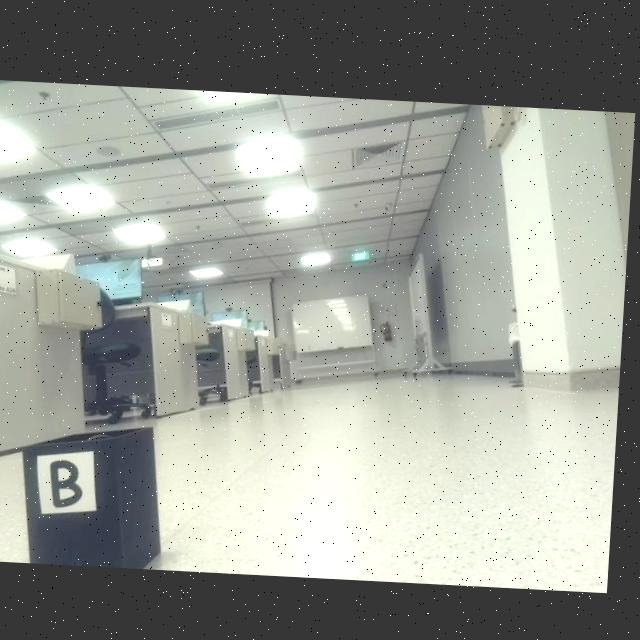B: (55, 459, 88, 508)
